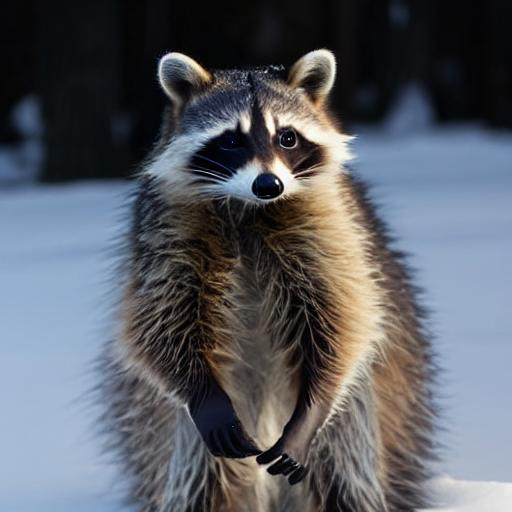raccoon: (103, 42, 448, 512)
